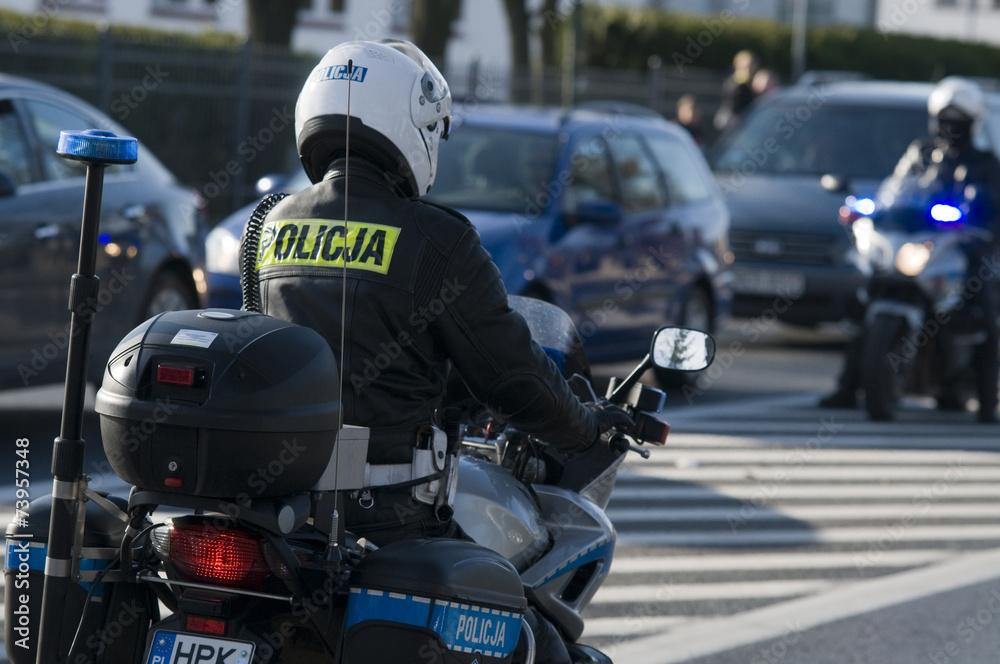helmet: (294, 37, 454, 202)
